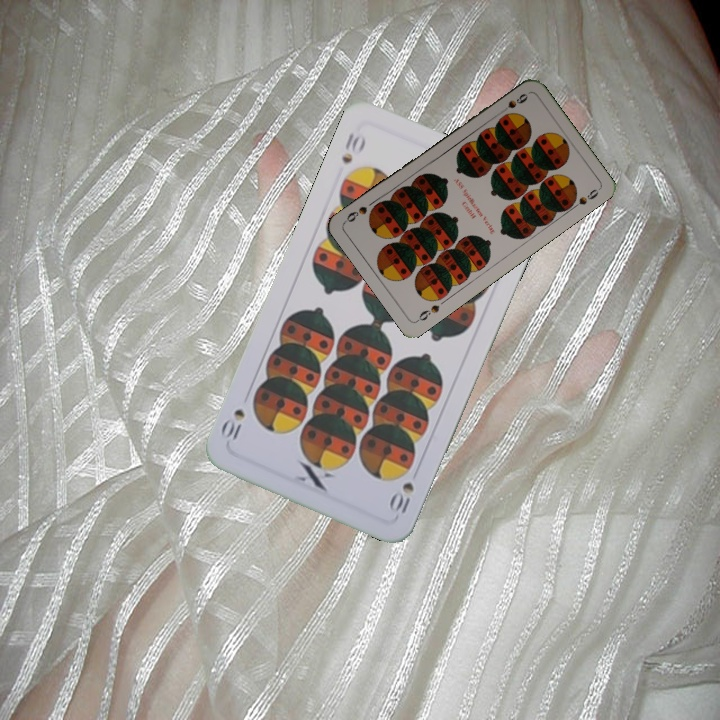S10: (337, 128, 368, 166), (387, 478, 417, 517)
S9: (495, 89, 531, 117), (413, 301, 442, 325)
